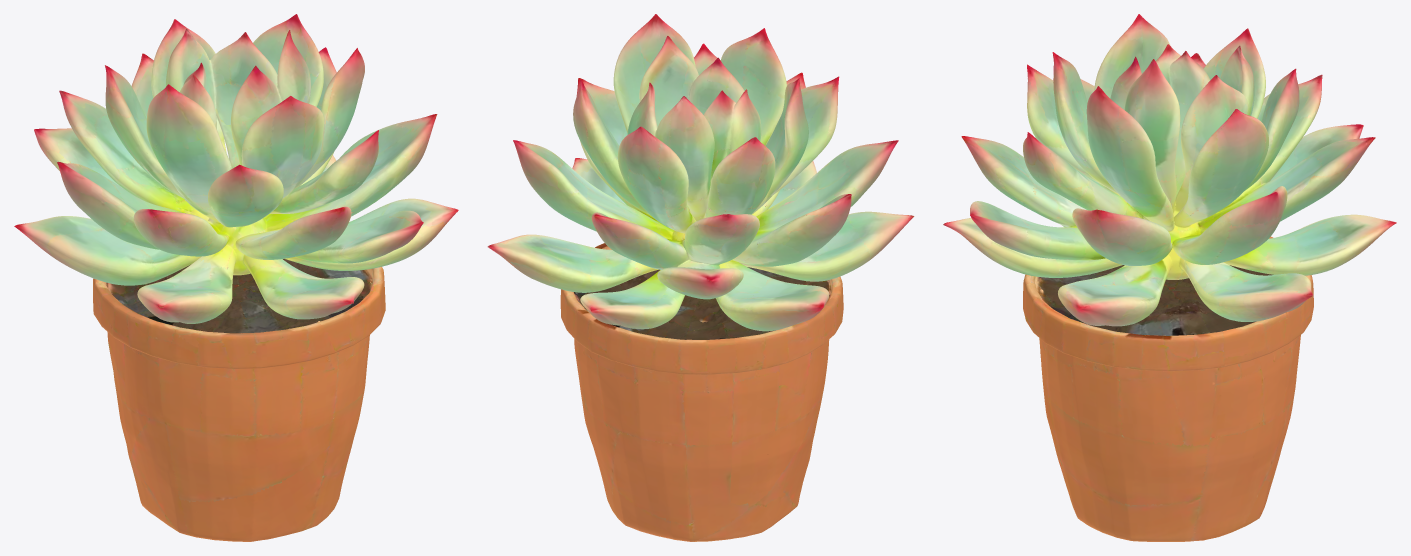
Rendered from terracotta-succulent.glb.
3 views of the same model, side by side, from view 1: azimuth 30°, elevation 25°; view 2: azimuth 150°, elevation 25°; view 3: azimuth 270°, elevation 25° (orthographic). The views are drawn at different scales.
Bounding box in the file's own units: 1.49 × 1.9 × 1.67.
1 material, 1 textured.
